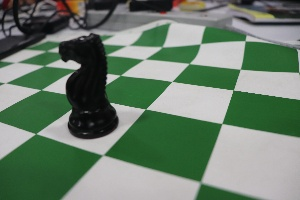black_horse: (49, 21, 129, 148)
